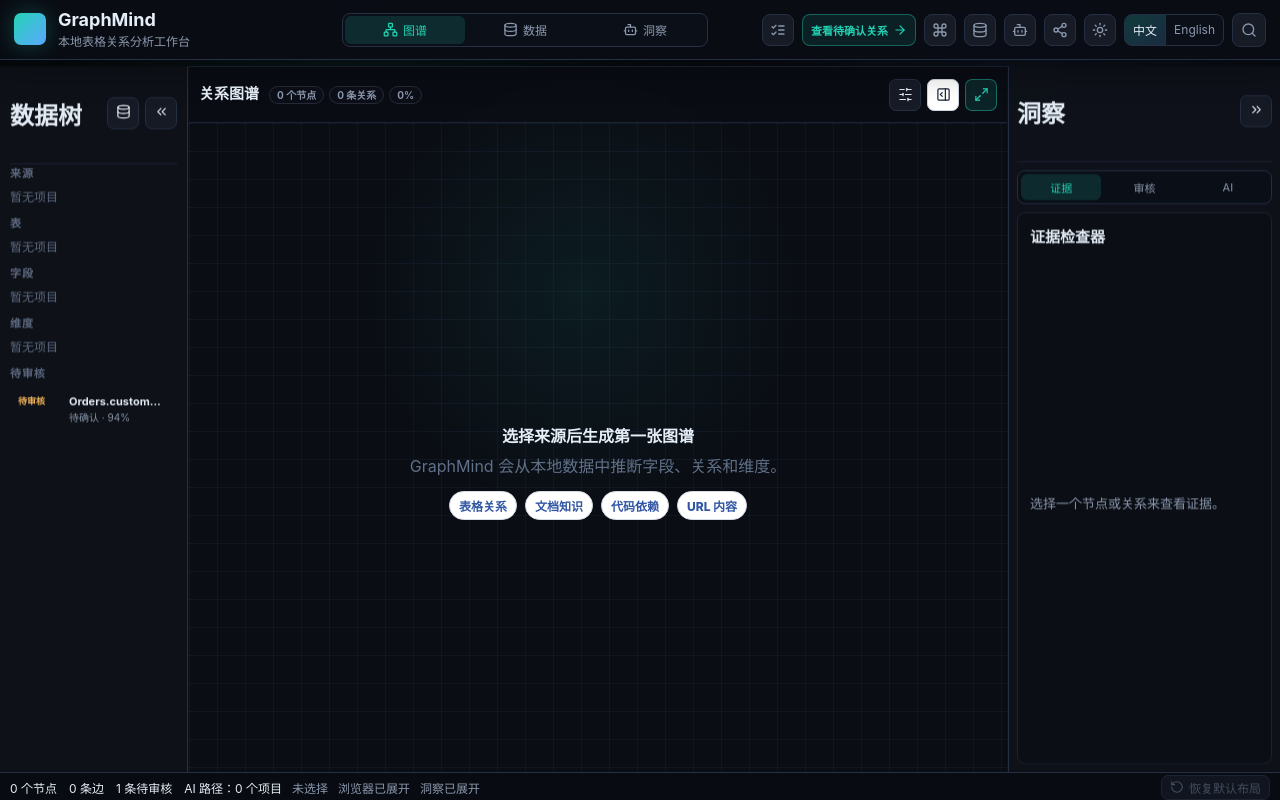
Scenario: App relationship review wiring › returns to login when a hosted session expires during an action
Click the tab "审核".
click(1144, 187)  # box left=1104, top=174, right=1185, bottom=200
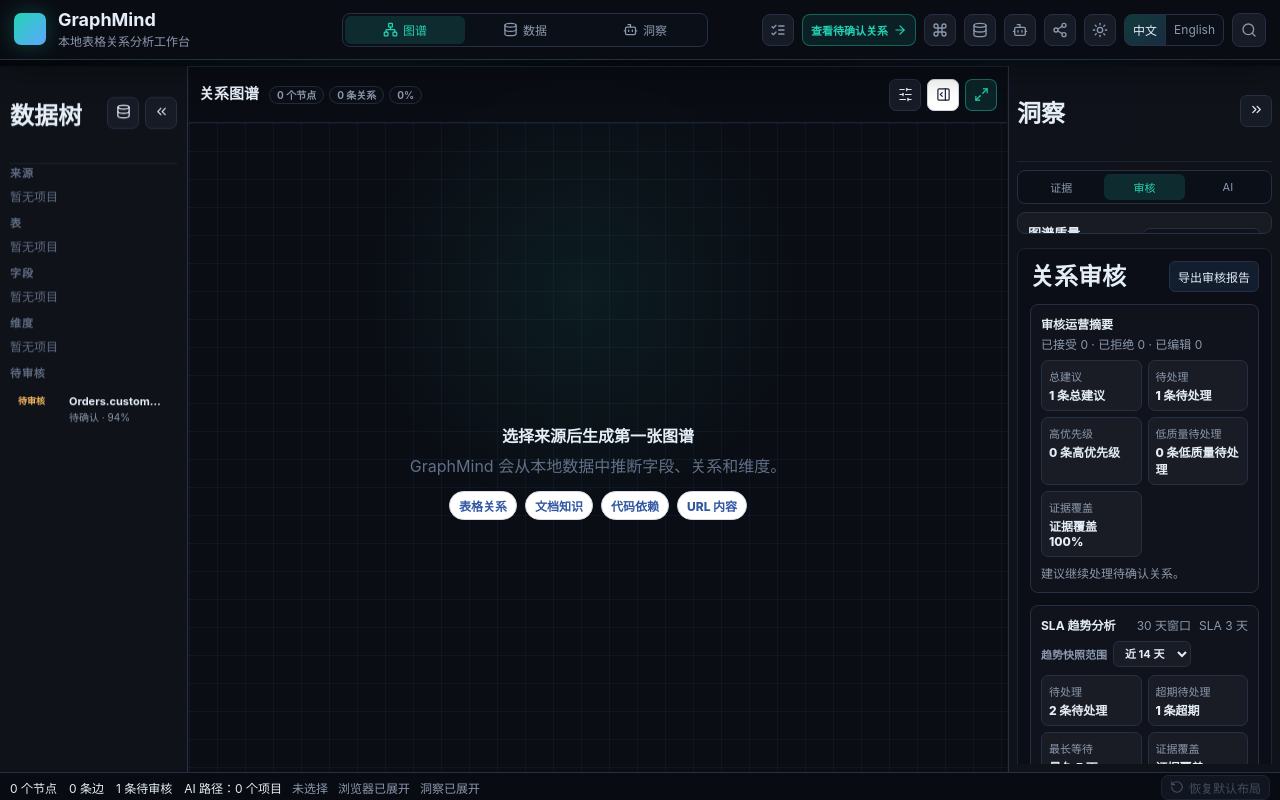
Select "近 30 天" in the dropdown labelled "趋势快照范围" at {"x": 1152, "y": 654}, box left=1113, top=641, right=1191, bottom=667
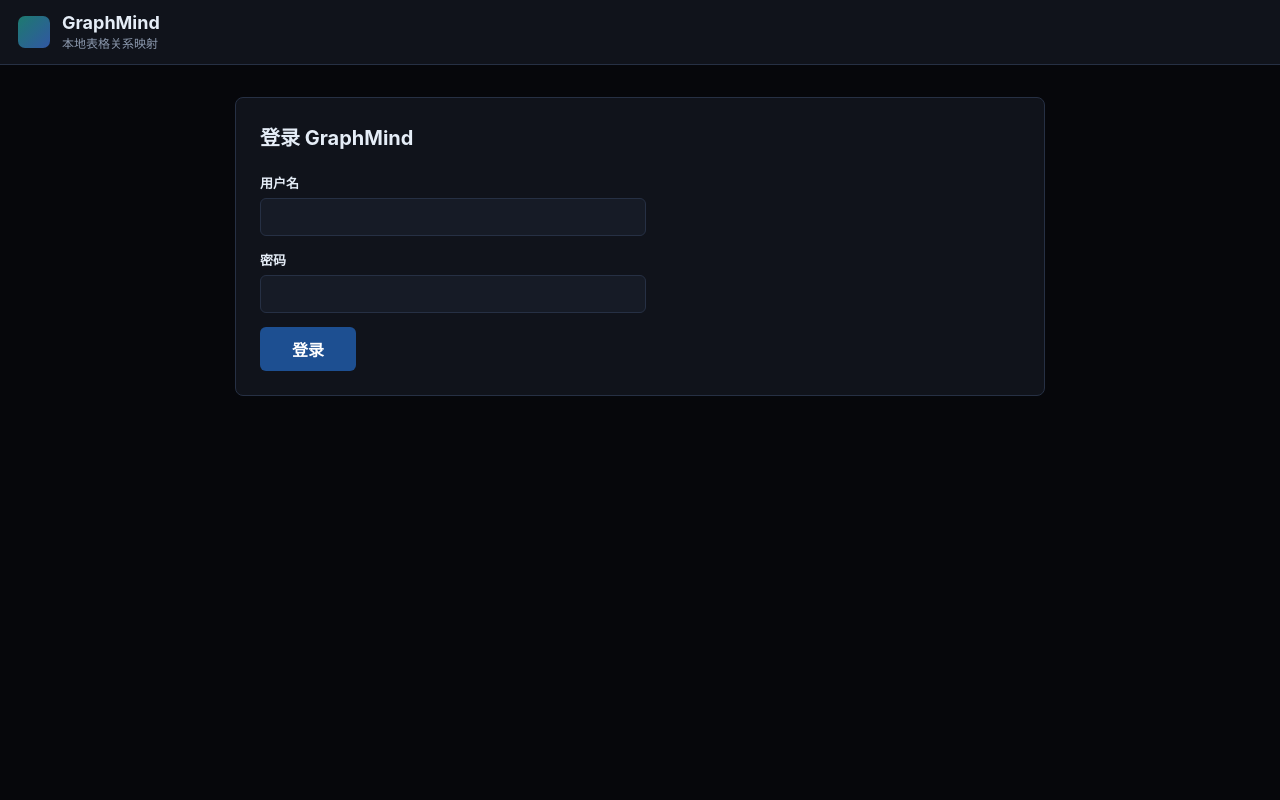
Expected: the heading "登录 GraphMind" is shown, left=260, top=126, right=413, bottom=150
